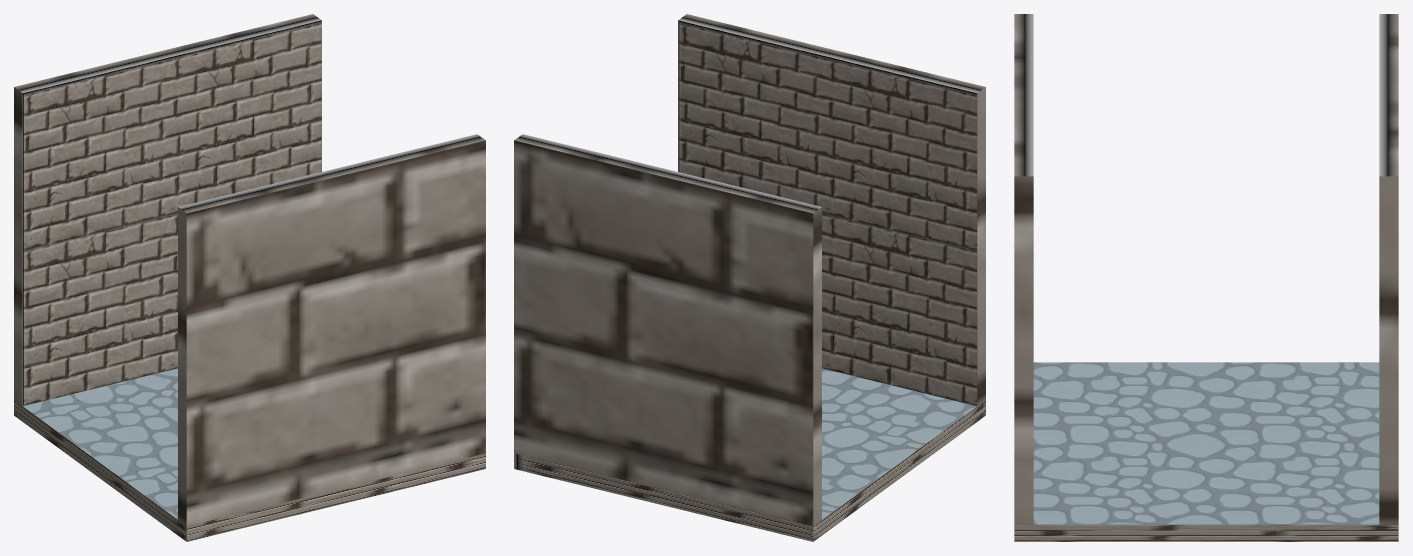
Rendered from Block.fbx.
The picture shows the model from 3 angles, left to right: view 1: azimuth 30°, elevation 25°; view 2: azimuth 150°, elevation 25°; view 3: azimuth 270°, elevation 25°; orthographic projection. The views are drawn at different scales.
Parts seen in each view (by area): view 1: wall, wall_1, ground; view 2: wall_1, wall, ground; view 3: ground, wall, wall_1.
Part boxes in pixels (left/top/right/bottom): wall: left=178, top=134, right=485, bottom=526; wall_1: left=14, top=14, right=321, bottom=405; ground: left=14, top=368, right=485, bottom=541; wall_1: left=514, top=134, right=821, bottom=526; wall: left=678, top=14, right=985, bottom=405; ground: left=514, top=368, right=985, bottom=541; ground: left=1014, top=362, right=1398, bottom=541; wall: left=1014, top=14, right=1033, bottom=524; wall_1: left=1379, top=14, right=1398, bottom=524.
Size of the model in its own units: 12.5 by 13.12 by 12.5.
Materials: 1 (1 with a texture image).
